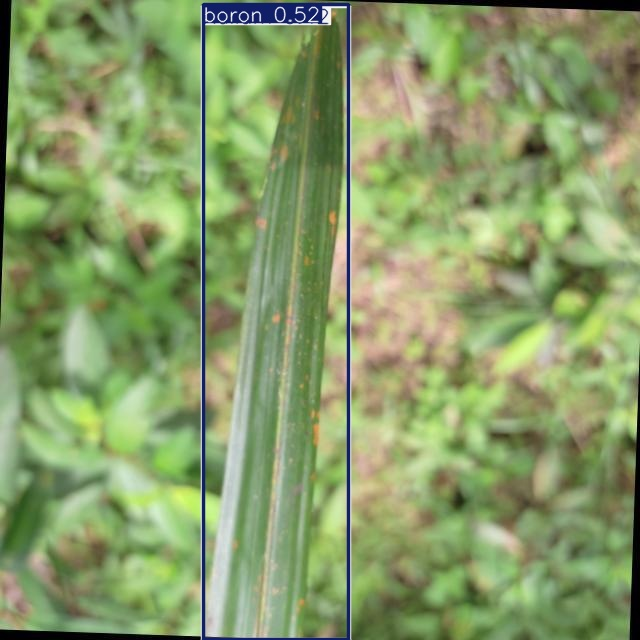Kalium: (202, 7, 350, 639)
nitrogen: (203, 5, 349, 639)
